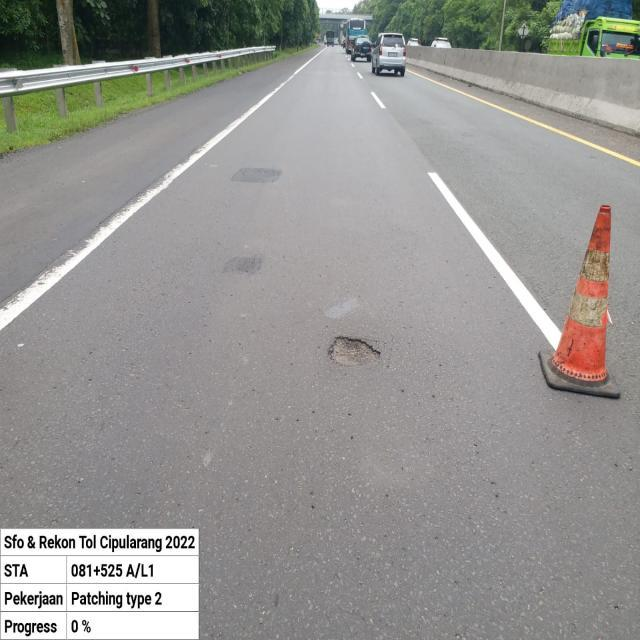Buraco: (326, 335, 384, 369)
